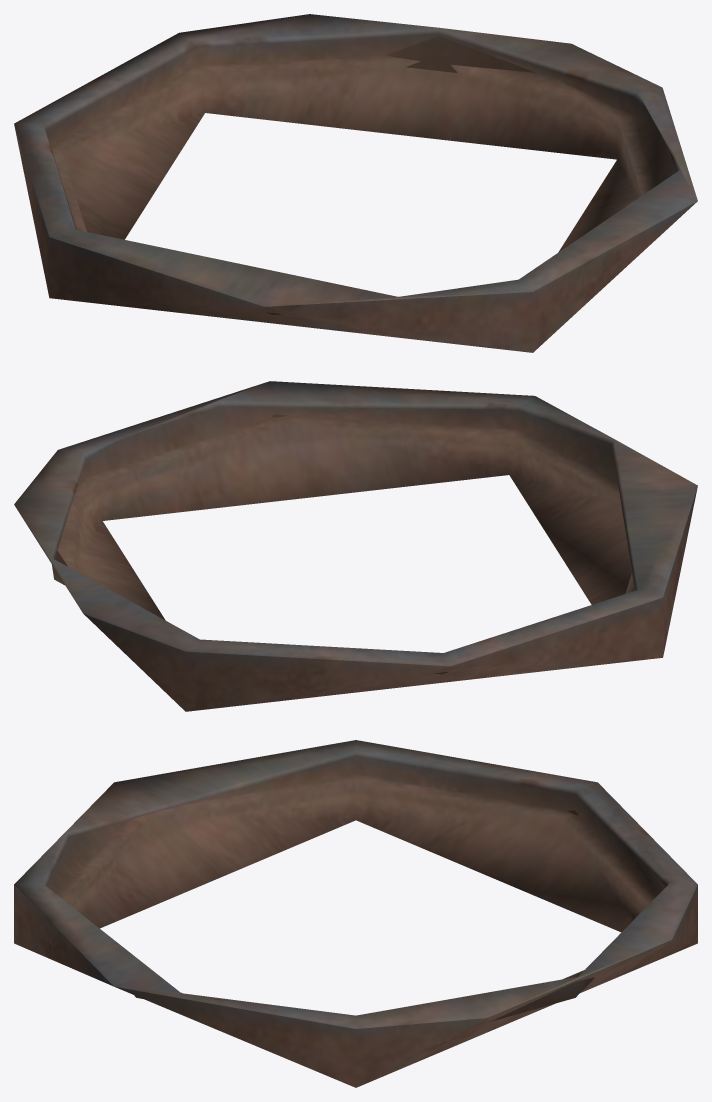
The model's file is manhole_cover.glb.
The picture shows the model from 3 angles, top to bottom: view 1: azimuth 30°, elevation 25°; view 2: azimuth 150°, elevation 25°; view 3: azimuth 270°, elevation 25°; orthographic projection. The views are drawn at different scales.
Bounding box in the file's own units: 0.6908 × 0.0675 × 0.6908.
1 material, 1 textured.
